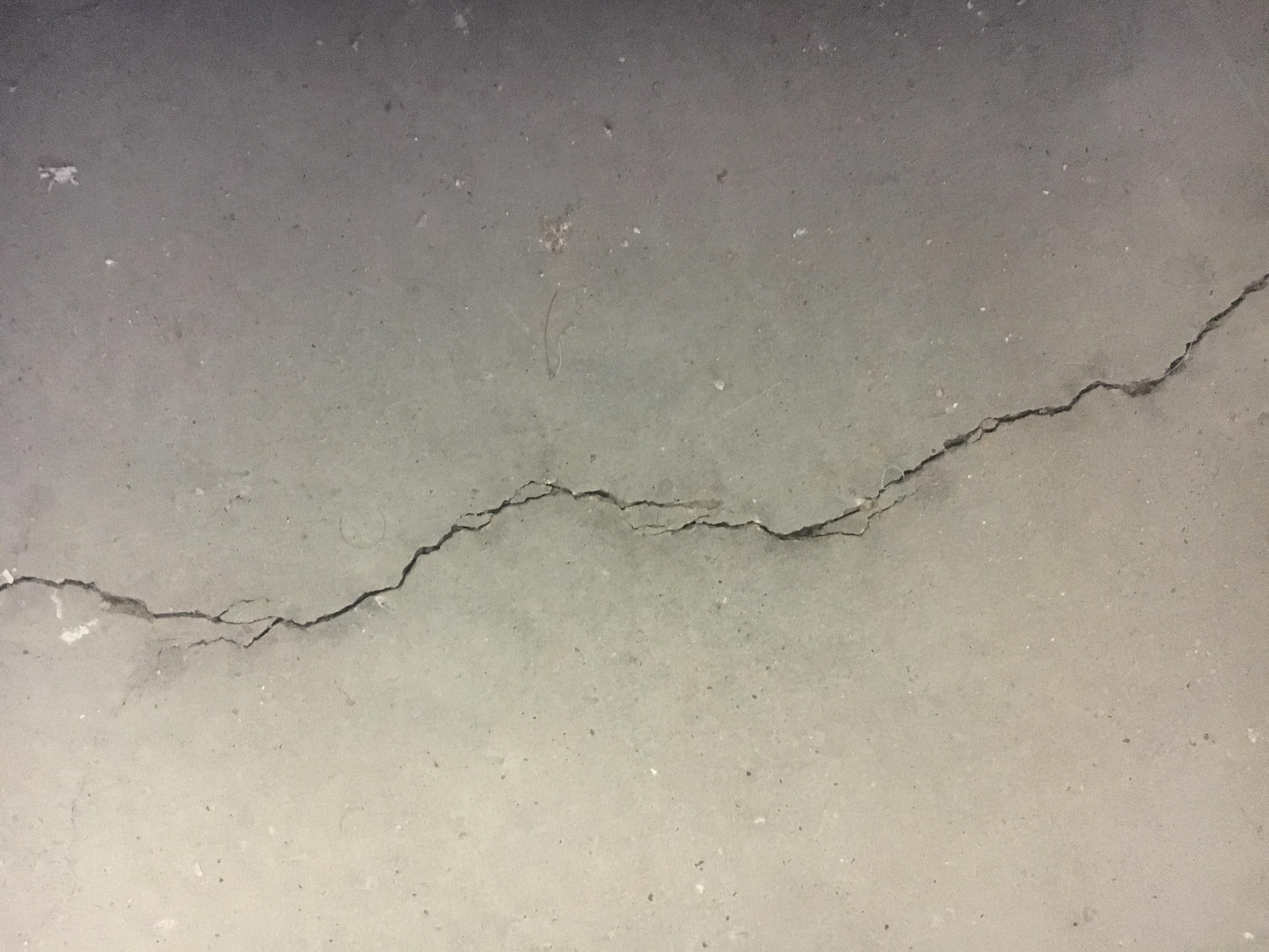Horizontal Settlement Crack: (4, 269, 1266, 653)
